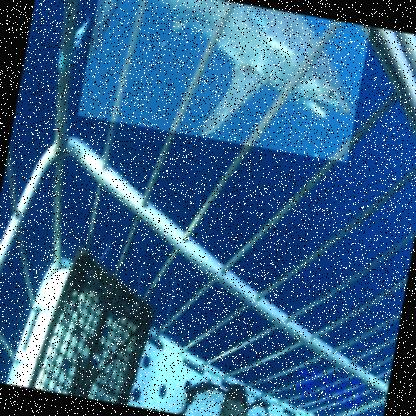mako-shark: (74, 0, 370, 163)
